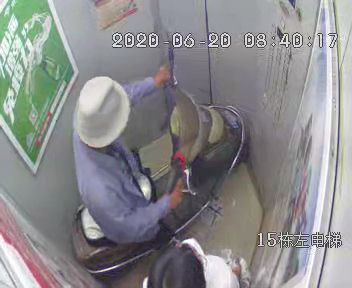Electric-bicycle: (77, 48, 243, 273)
